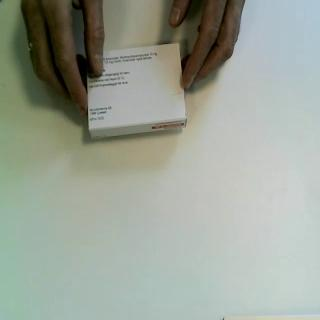dolcontin10mg: (87, 42, 189, 140)
